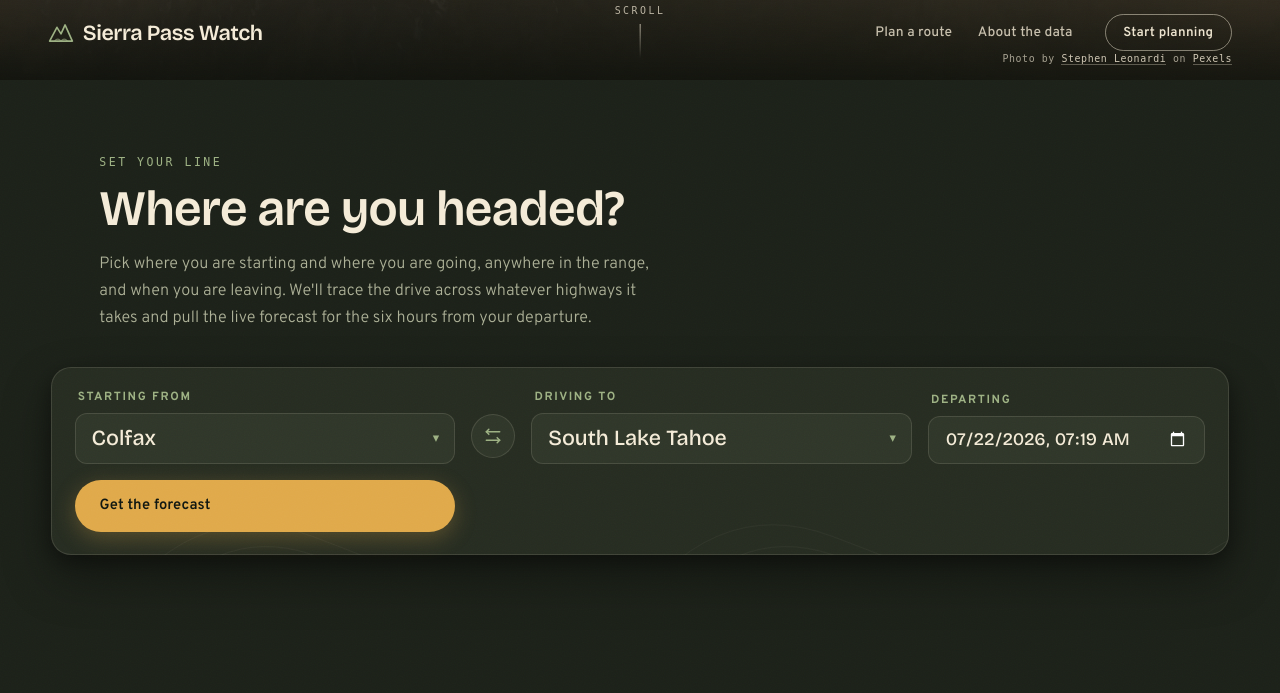
it: App - plan a journey and show the live forecast › blocks planning when start and destination are the same
(page scrolled)
Expected: the dropdown labelled "Starting from" shows "Colfax", [75,413,455,464]
Select "Colfax" in the dropdown labelled "Driving to" at (722, 438), box [531,413,912,464]
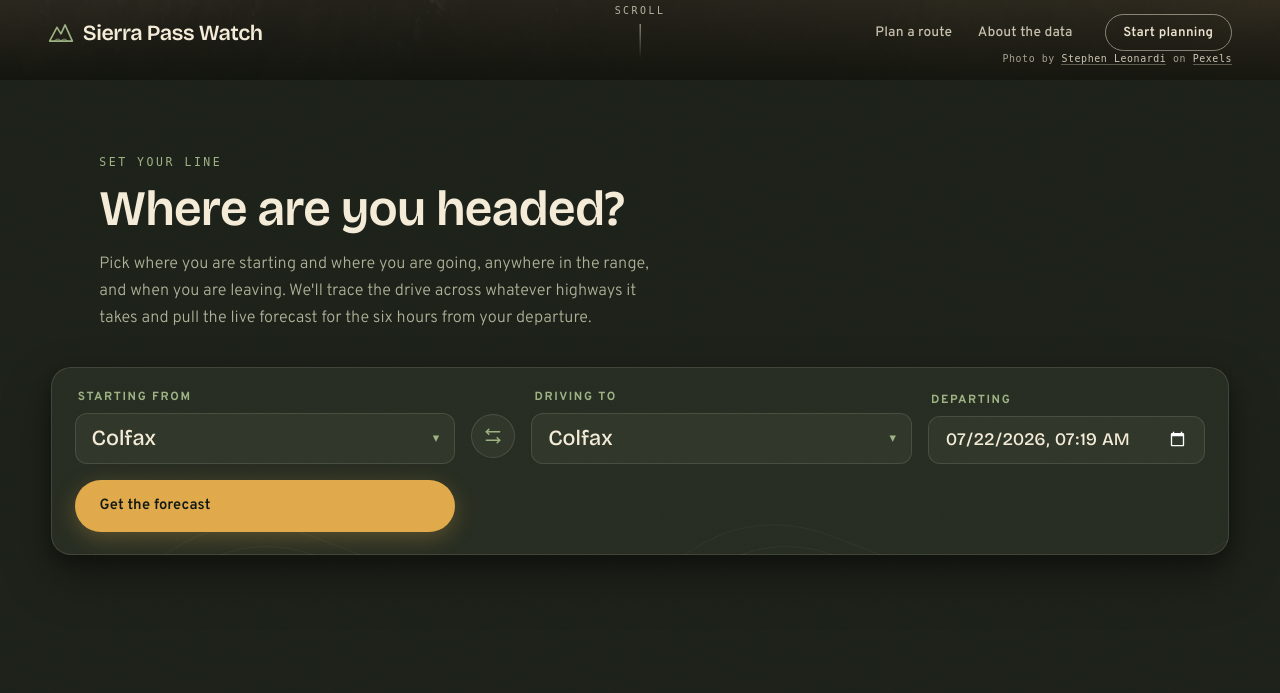
Click the button "Get the forecast" at (155, 506), box [75,480,455,532]
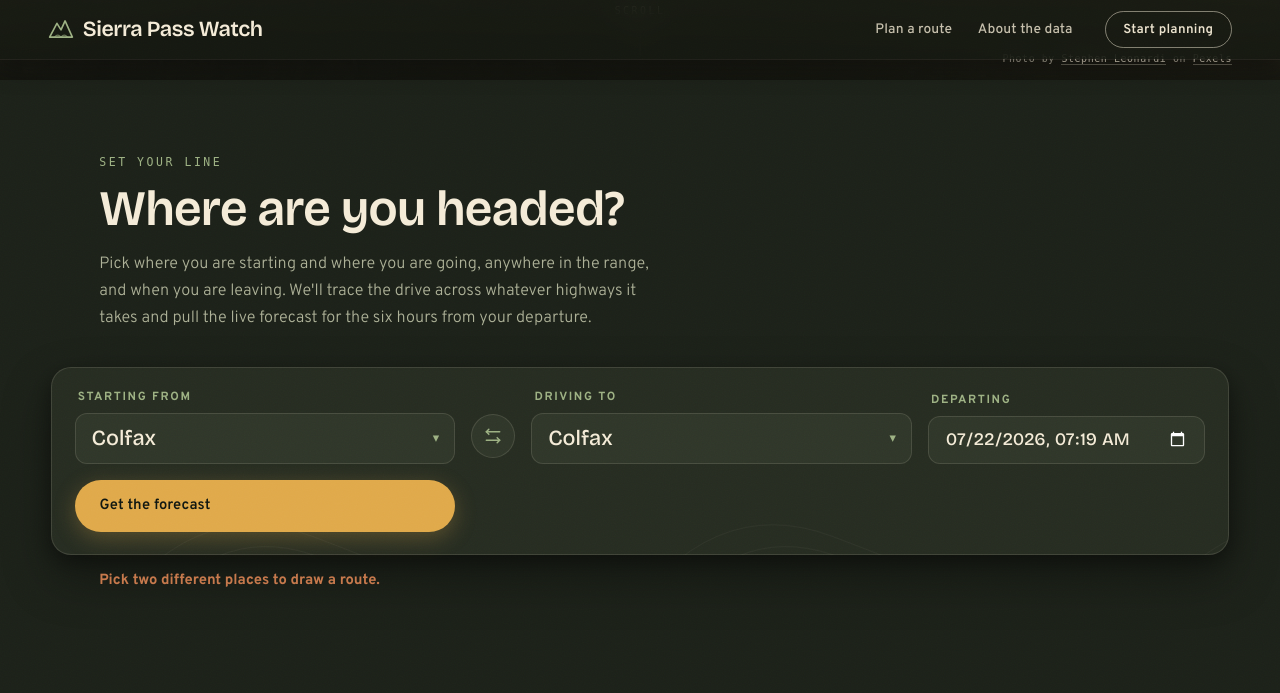
Result: the text "Pick two different places to draw a route." is shown at [99,571,380,590]
